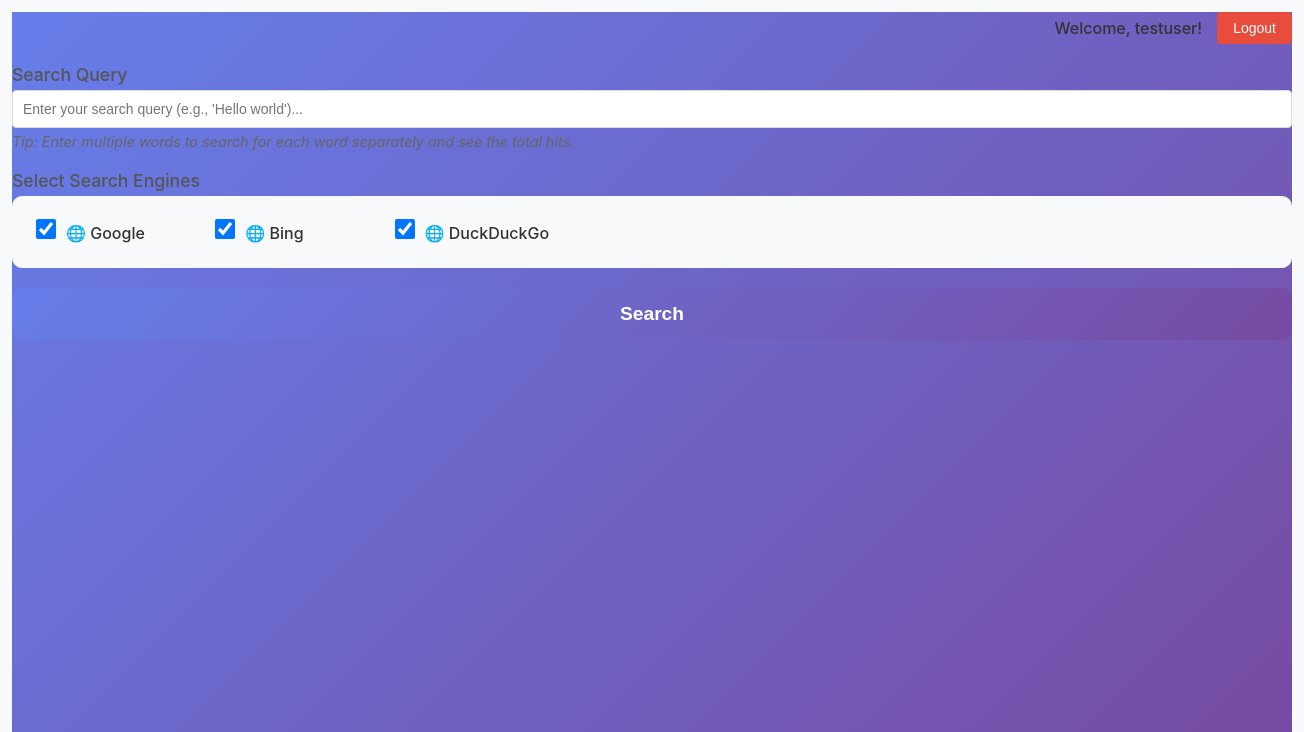
Test: SearchForm Component › Failed Search › should display error message on search failure
This screenshot has width=1304, height=732.
Type "test query" into the field with test id "search-input" at {"x": 652, "y": 109}, box [12, 90, 1292, 128]
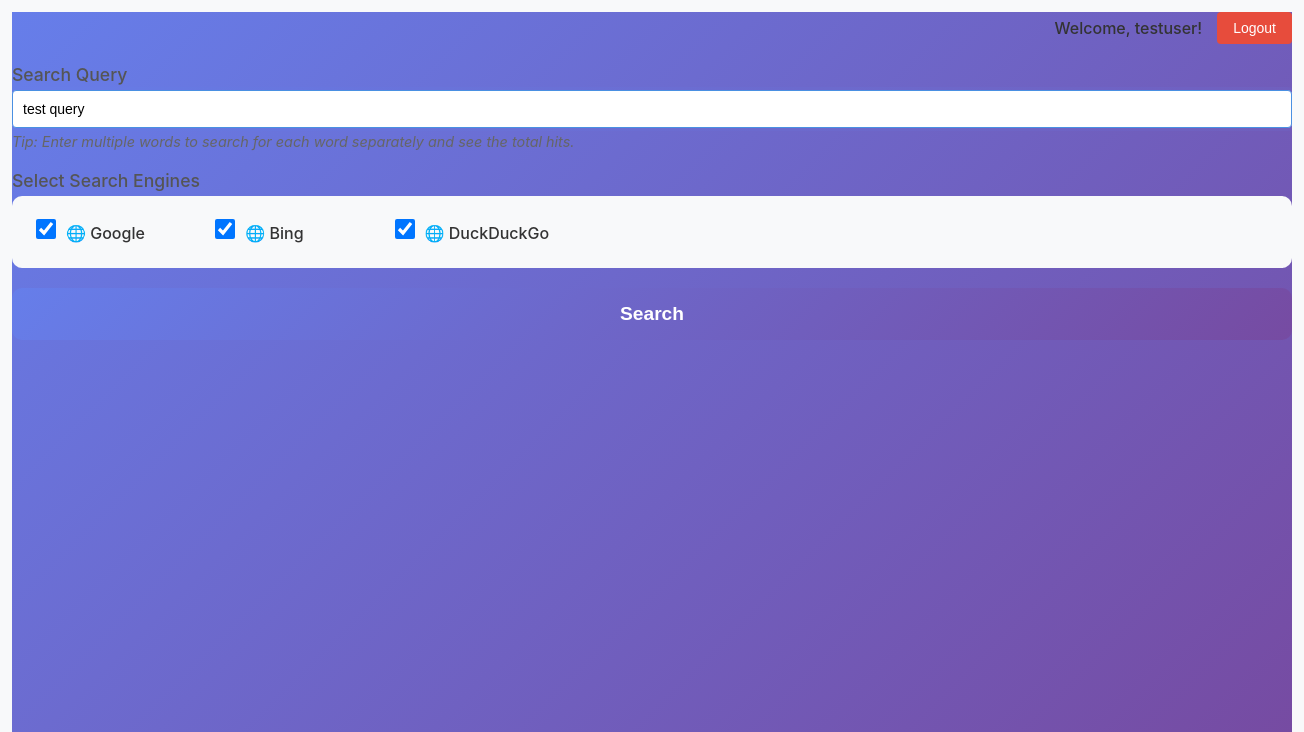
Click the button with test id "search-button" at {"x": 652, "y": 314}, box [12, 288, 1292, 340]
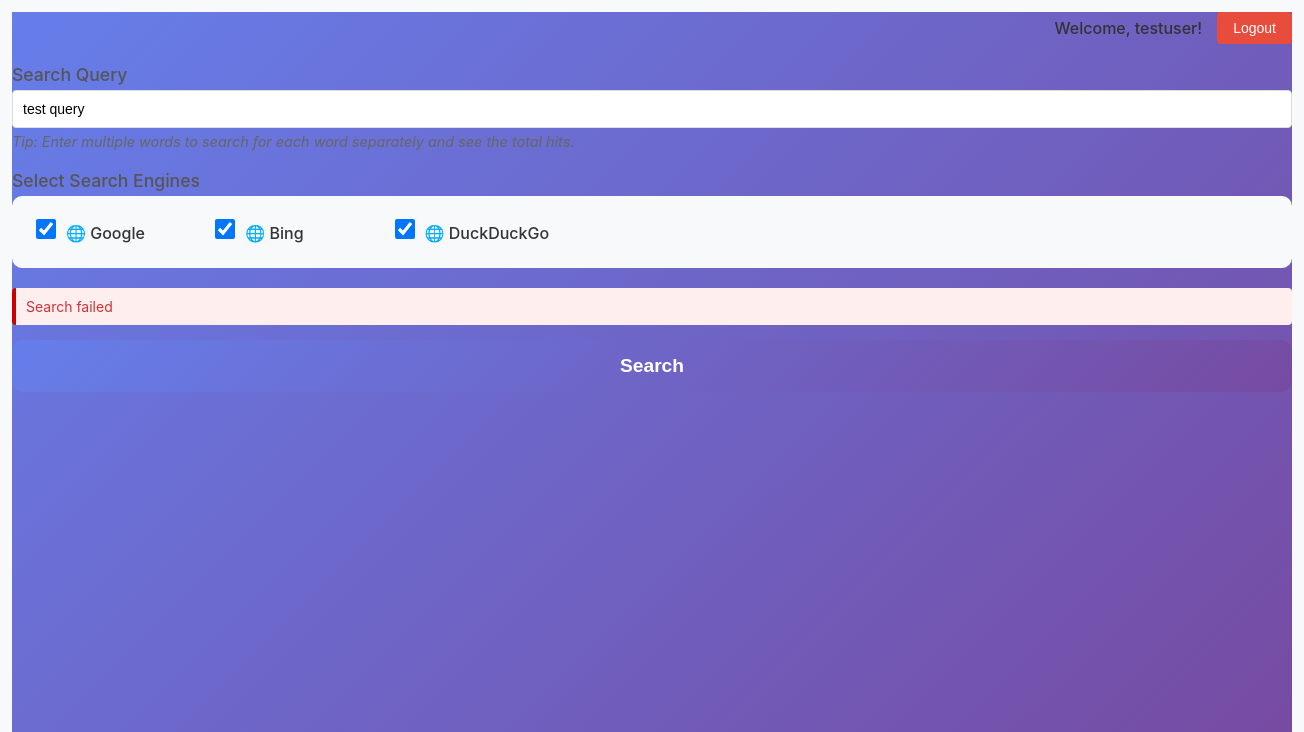
Now the text "Search failed" is shown, box [12, 288, 1292, 325]
